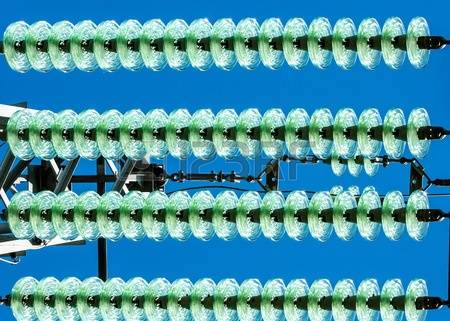isolator: (3, 15, 433, 161), (7, 189, 437, 321), (7, 188, 434, 244), (3, 16, 434, 71), (4, 108, 434, 161), (8, 275, 438, 320)
